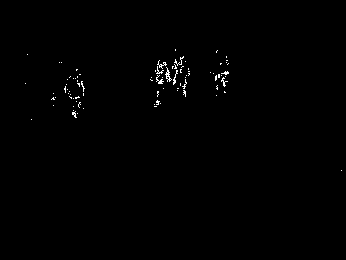person: (66, 68, 86, 119), (151, 57, 170, 109), (171, 51, 190, 100)
